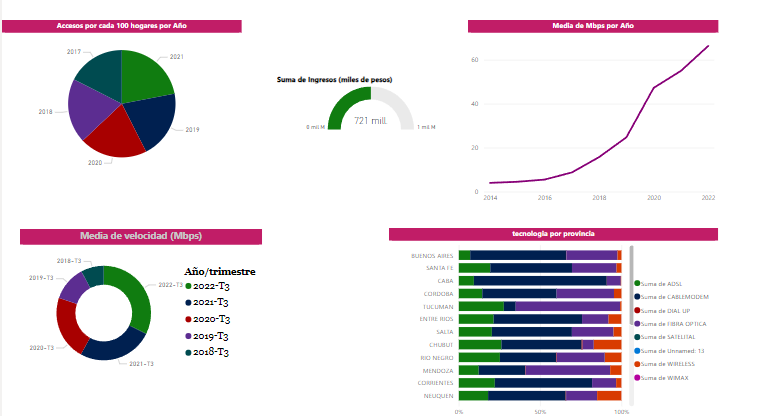

This screenshot's page, from the dashboard's own definition file:
{"tool":"powerbi","page":{"name":"Dashboard","canvas":[1280,720],"ordinal":1},"visuals":[{"type":"lineChart","title":"Media de Mbps por Año","fields":{"Category":["historico_velocidad_internet_Pbi.Año"],"Y":["Avg(historico_velocidad_internet_Pbi.Mbps (Media de bajada))"]},"box":[781.7,43.3,420,316.7],"z":3000},{"type":"donutChart","title":"Media de velocidad (Mbps)","fields":{"Category":["historico_velocidad_internet_Pbi.año_trimestre"],"Y":["Sum(historico_velocidad_internet_Pbi.Mbps (Media de bajada))"]},"box":[30,394,406,261],"z":7001},{"type":"hundredPercentStackedBarChart","title":"tecnologia por provincia","fields":{"Category":["Internet_tecnologia_localidad_Pbi.Provincia"],"Y":["Sum(Internet_tecnologia_localidad_Pbi.ADSL)","Sum(Internet_tecnologia_localidad_Pbi.CABLEMODEM)","Sum(Internet_tecnologia_localidad_Pbi.DIAL UP)","Sum(Internet_tecnologia_localidad_Pbi.FIBRA OPTICA)","Sum(Internet_tecnologia_localidad_Pbi.SATELITAL)","Sum(Internet_tecnologia_localidad_Pbi.Unnamed: 13)","Sum(Internet_tecnologia_localidad_Pbi.WIRELESS)","Sum(Internet_tecnologia_localidad_Pbi.WIMAX)"]},"box":[650,393.3,551.7,326.7],"z":7002},{"type":"gauge","fields":{"Y":["Sum(Internet_Ingresos (1).Ingresos (miles de pesos))"]},"box":[456.7,135,325,103.3],"z":7003},{"type":"pieChart","title":" Accesos por cada 100 hogares por Año","fields":{"Category":["Internet_Penetracion.Año"],"Y":["Sum(Internet_Penetracion.Accesos por cada 100 hogares)"]},"box":[0,43.3,401.7,265],"z":7004}]}

Visuals, with their boxes on the page's 1280x720 design canvas (x1, y1, x2, y2). These are canvas units, not pixel positions in the 764x416 screenshot, which may show the page scaled, cropped or inside an application window:
"Media de Mbps por Año" lineChart: box=[782, 43, 1202, 360]
"Media de velocidad (Mbps)" donutChart: box=[30, 394, 436, 655]
"tecnologia por provincia" hundredPercentStackedBarChart: box=[650, 393, 1202, 720]
gauge - Sum(Internet_Ingresos (1).Ingresos (miles de pesos)): box=[457, 135, 782, 238]
" Accesos por cada 100 hogares por Año" pieChart: box=[0, 43, 402, 308]
